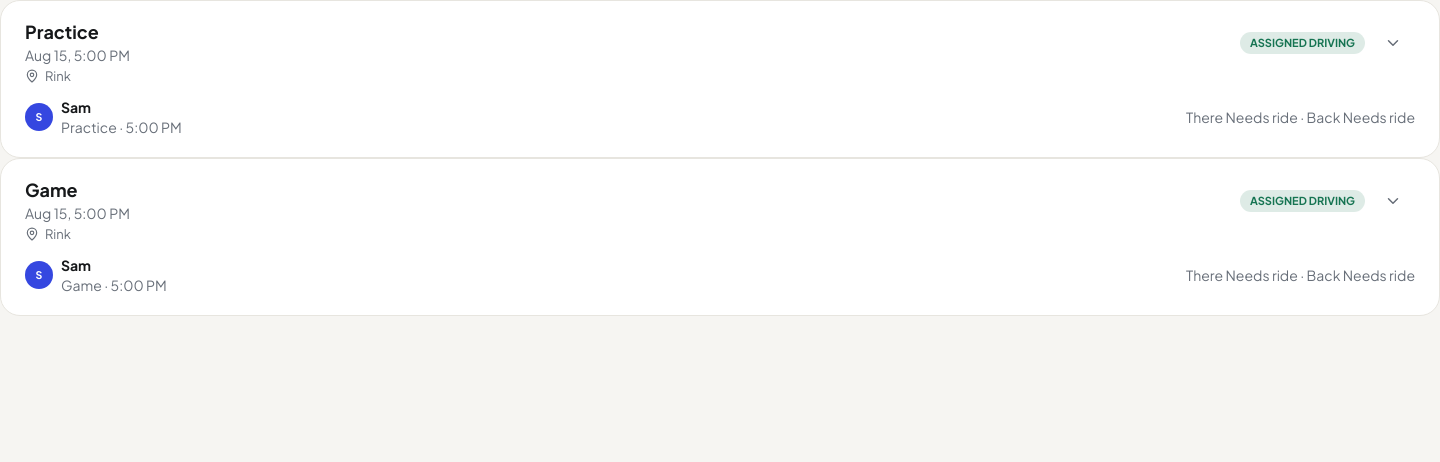
Test: AgendaRow › toggles expand/collapse per row without affecting other rows
Click the button "Practice Aug 15, 5:00 PM Rink" at (62, 32), box [25,21,1224,85]
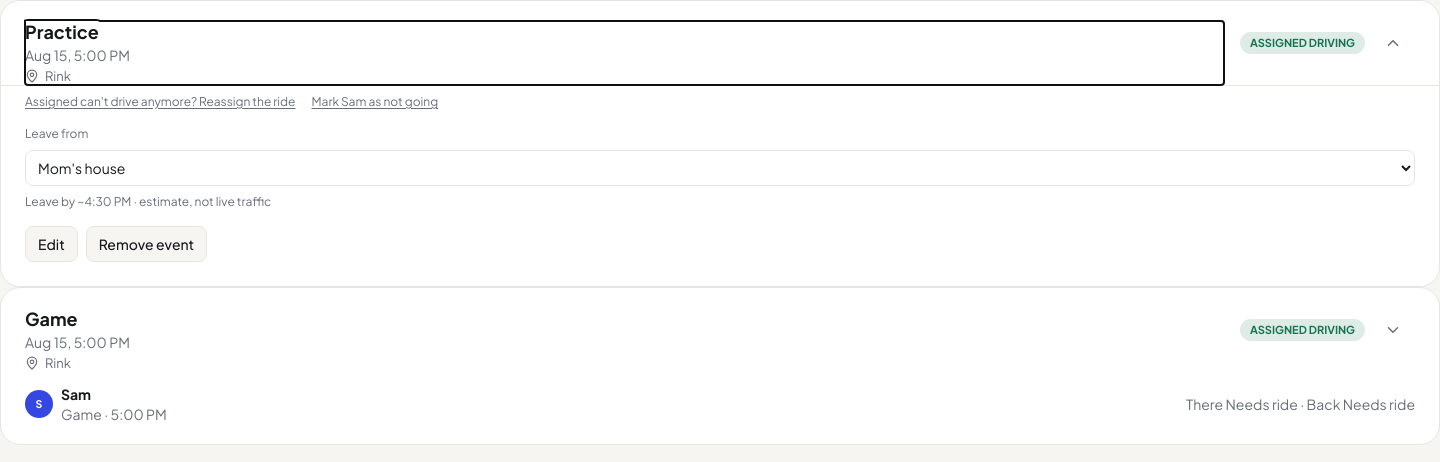
Now the element with test id "agenda-band-travel" is shown, box [25,126,1415,210]
Click the button "Practice Aug 15, 5:00 PM Rink" at (62, 32), box [25,21,1224,85]
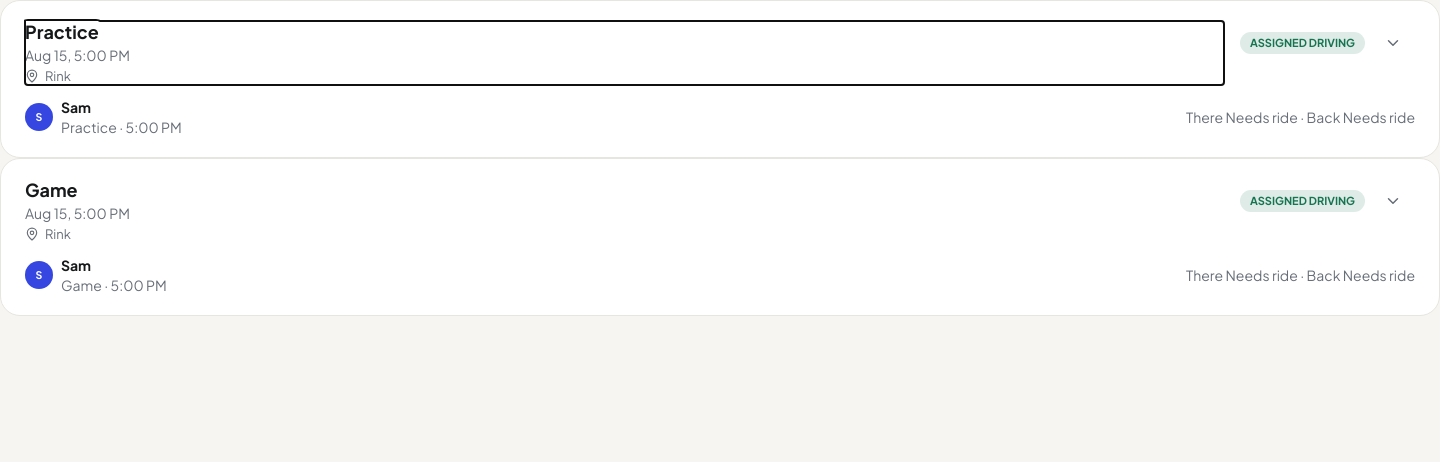
Click the button "Game Aug 15, 5:00 PM Rink" at (51, 190), box [25,179,1224,243]
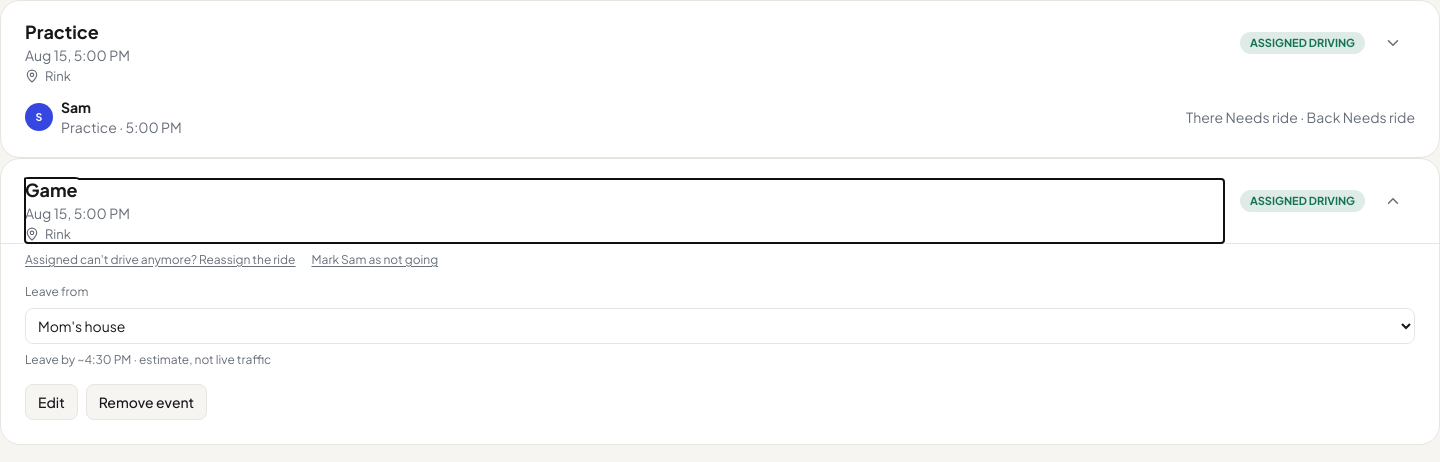
Now the element with test id "agenda-band-travel" is shown, box [25,284,1415,368]
